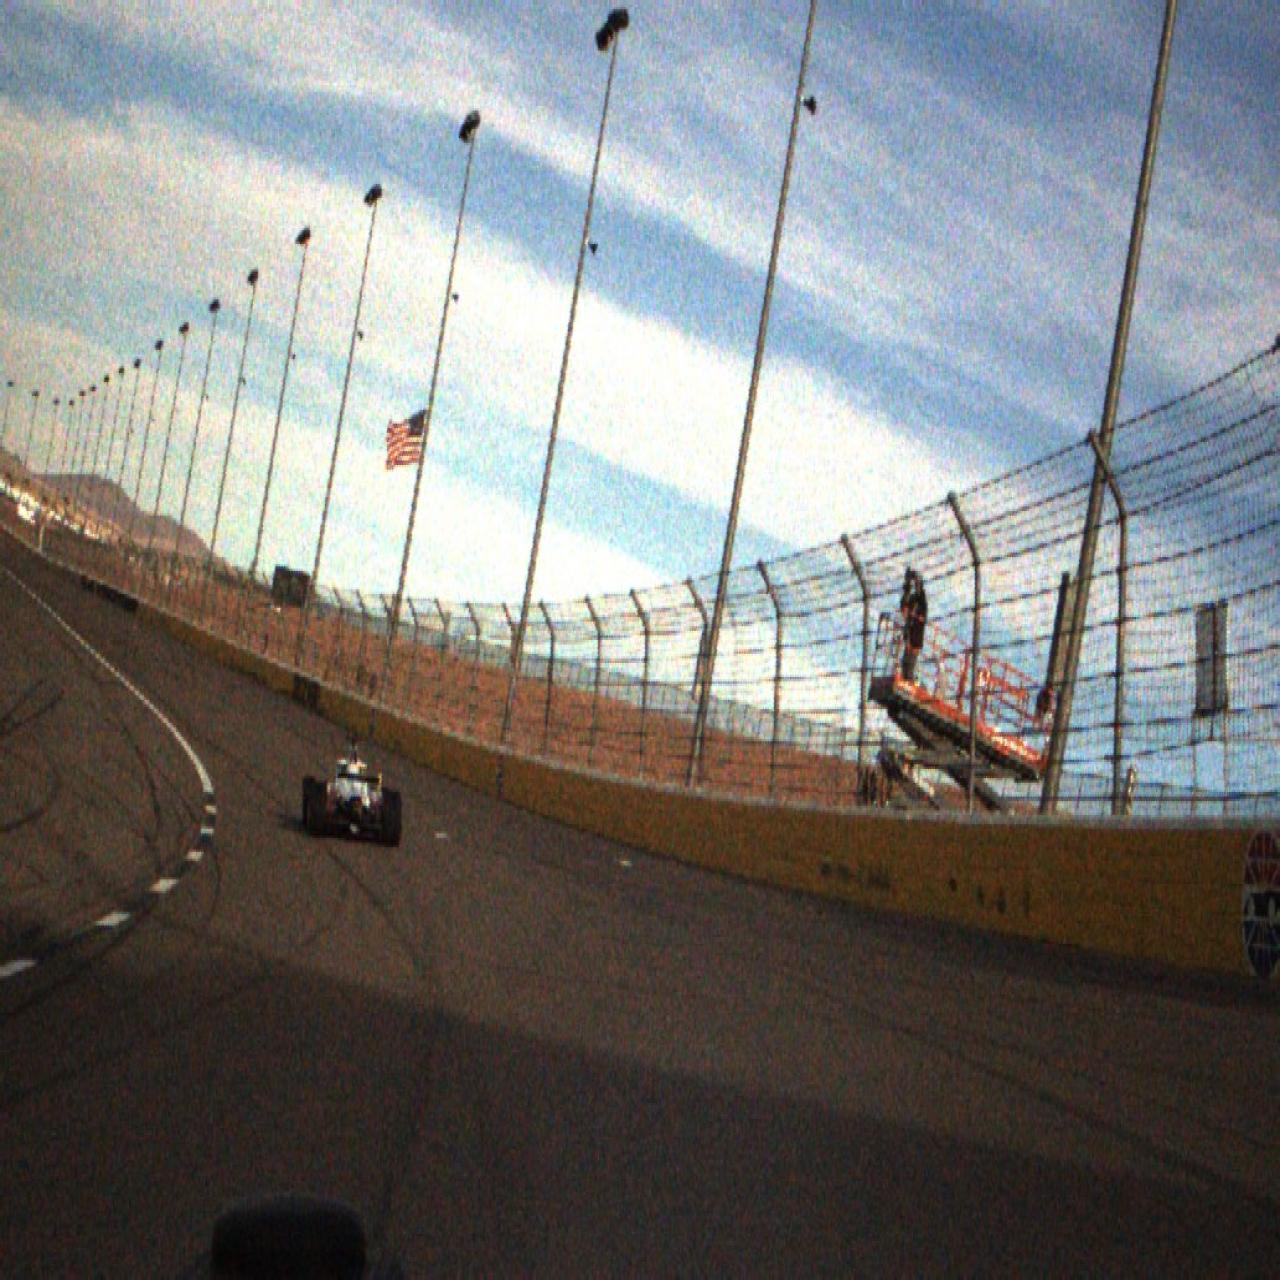AV: (302, 735, 403, 849)
Wheel: (383, 791, 402, 847), (308, 783, 327, 837), (302, 776, 316, 833)
